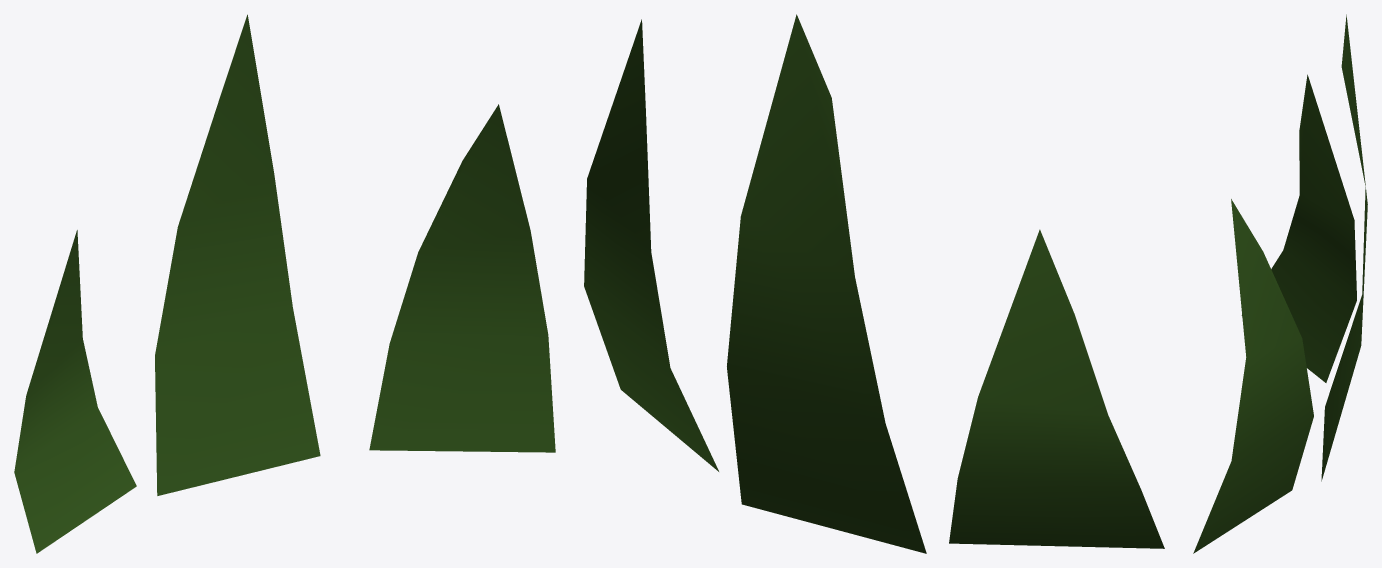
The model's file is cesped4.glb.
The picture shows the model from 3 angles, left to right: view 1: azimuth 30°, elevation 25°; view 2: azimuth 150°, elevation 25°; view 3: azimuth 270°, elevation 25°; orthographic projection. The views are drawn at different scales.
Parts seen in each view (by area): view 1: cesped 4; view 2: cesped 4; view 3: cesped 4.
Boxes of the visible parts, x1=… form: cesped 4: x1=14, y1=14, x2=555, y2=553; cesped 4: x1=584, y1=14, x2=1164, y2=553; cesped 4: x1=1193, y1=14, x2=1367, y2=553.
Bounding box in the file's own units: 0.3499 × 0.296 × 0.1062.
